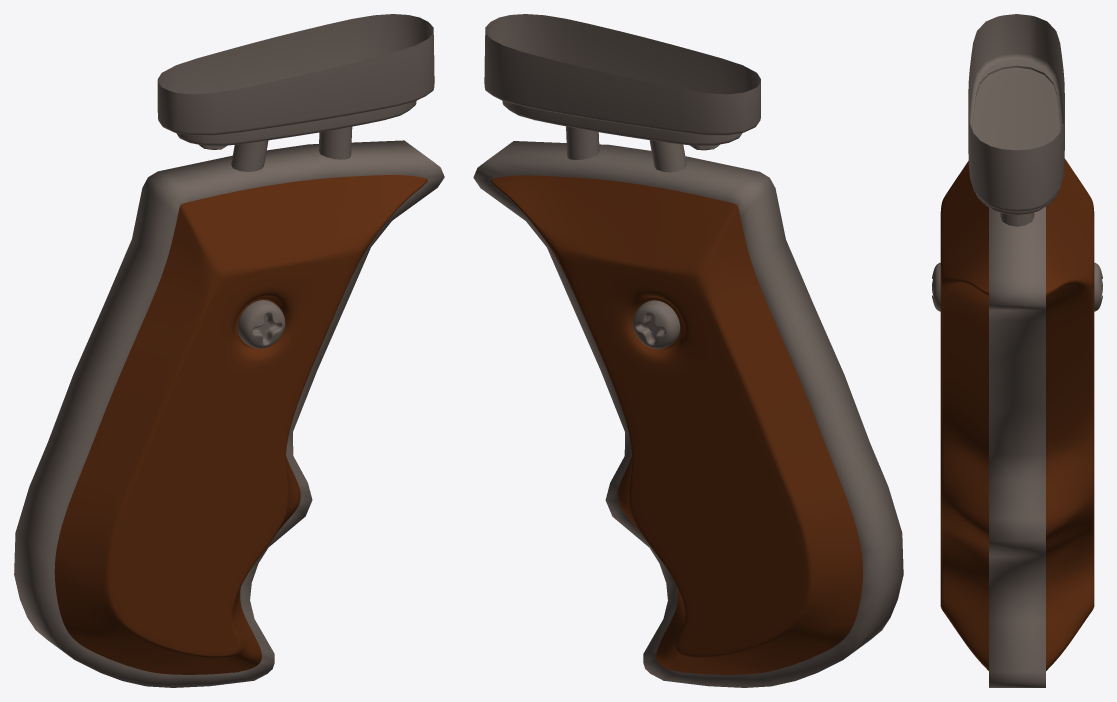
Rendered from grip_04.fbx.
3 views of the same model, side by side, from view 1: azimuth 30°, elevation 25°; view 2: azimuth 150°, elevation 25°; view 3: azimuth 270°, elevation 25° (orthographic). The views are drawn at different scales.
Visible parts, largest first — view 1: Plane.084, Plane.085, AK47.013, Circle.074, Circle.121, Circle.120; view 2: Plane.084, Plane.085, AK47.013, Circle.074, Circle.121, Circle.120; view 3: Plane.084, Plane.085, AK47.013, Circle.074, Circle.121.
Part boxes in pixels (left/top/right/bottom): Plane.084: left=54, top=175, right=427, bottom=674; Plane.085: left=14, top=140, right=444, bottom=687; AK47.013: left=157, top=14, right=434, bottom=145; Circle.074: left=237, top=300, right=285, bottom=348; Circle.121: left=318, top=126, right=352, bottom=159; Circle.120: left=231, top=140, right=268, bottom=171; Plane.084: left=490, top=175, right=862, bottom=674; Plane.085: left=473, top=141, right=903, bottom=687; AK47.013: left=484, top=14, right=760, bottom=145; Circle.074: left=632, top=300, right=680, bottom=348; Circle.121: left=566, top=126, right=599, bottom=160; Circle.120: left=649, top=140, right=686, bottom=172; Plane.084: left=940, top=158, right=1094, bottom=670; Plane.085: left=989, top=206, right=1045, bottom=687; AK47.013: left=968, top=14, right=1064, bottom=215; Circle.074: left=932, top=262, right=1102, bottom=311; Circle.121: left=1000, top=212, right=1034, bottom=226.
Size of the model in its own units: 32.86 by 46.94 by 11.53.
